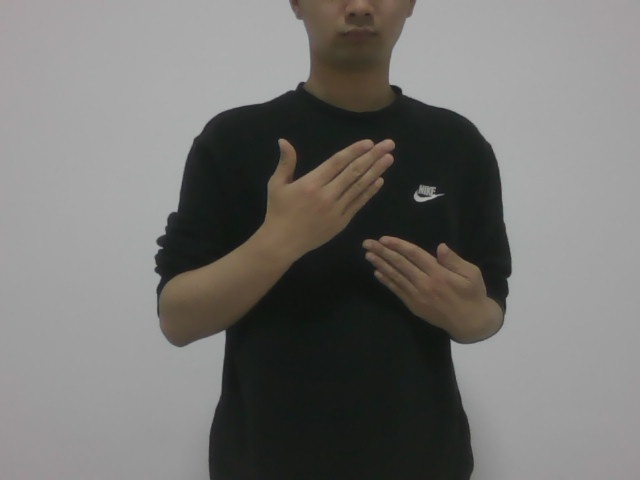tea: (240, 127, 475, 343)
